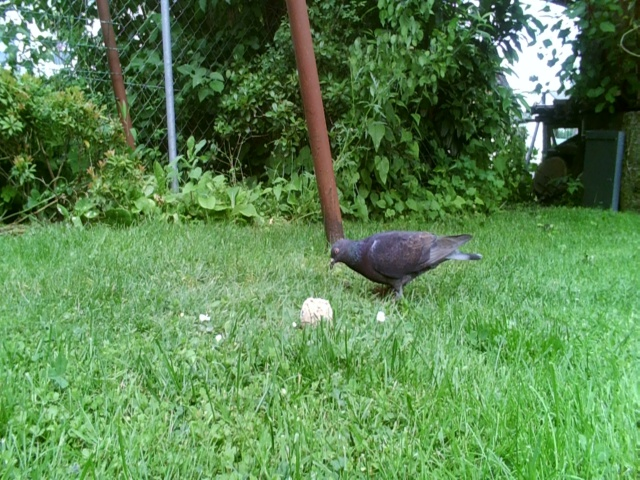Pigeon: (321, 220, 488, 313)
